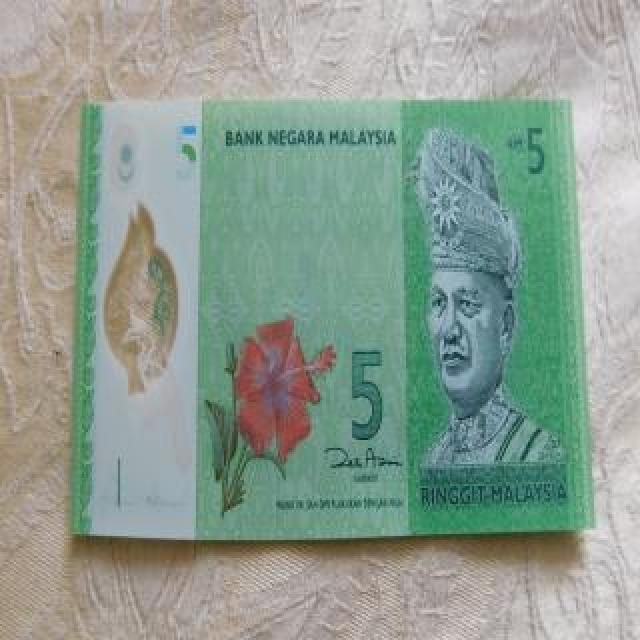5 Ringgit: (76, 98, 592, 547)
